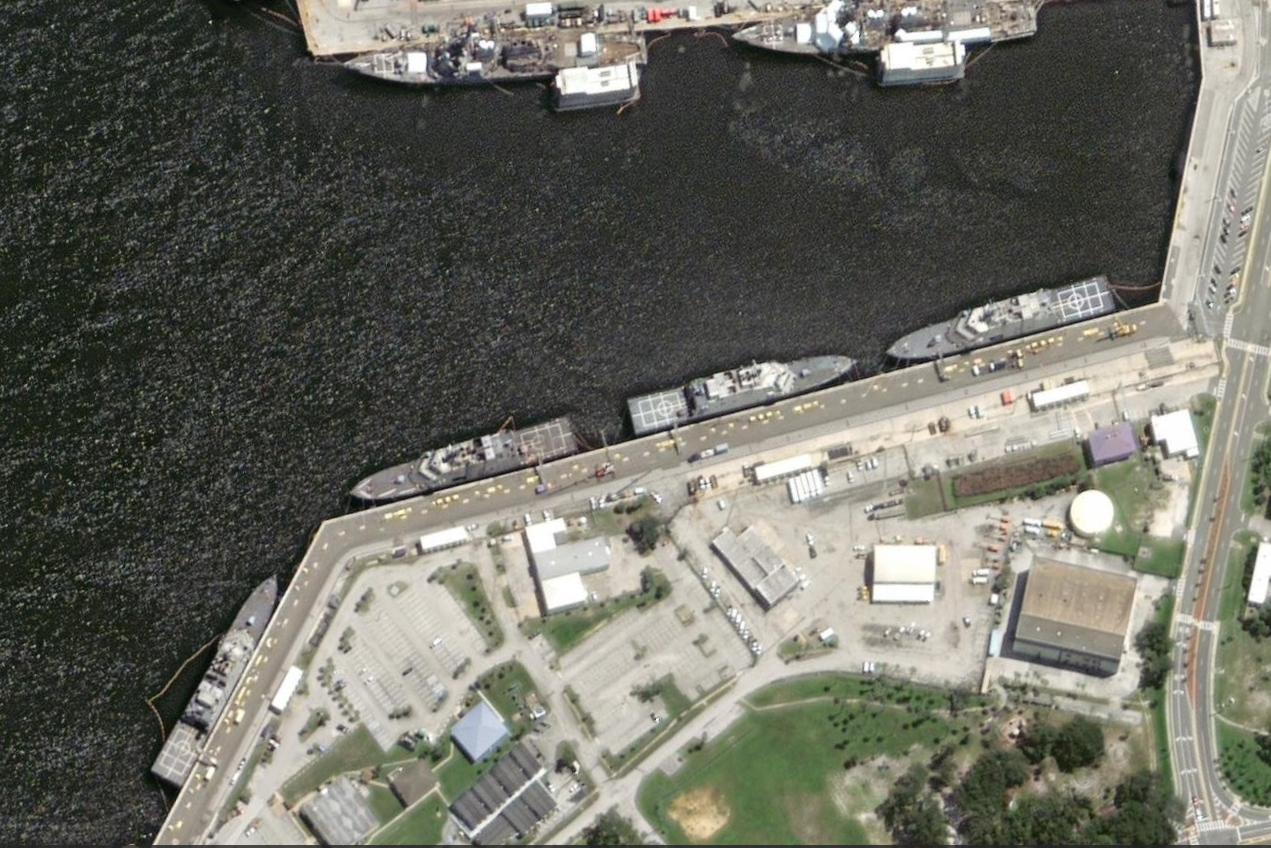patrol: (614, 320, 877, 452), (142, 569, 292, 789), (877, 255, 1143, 369), (337, 411, 596, 509)
